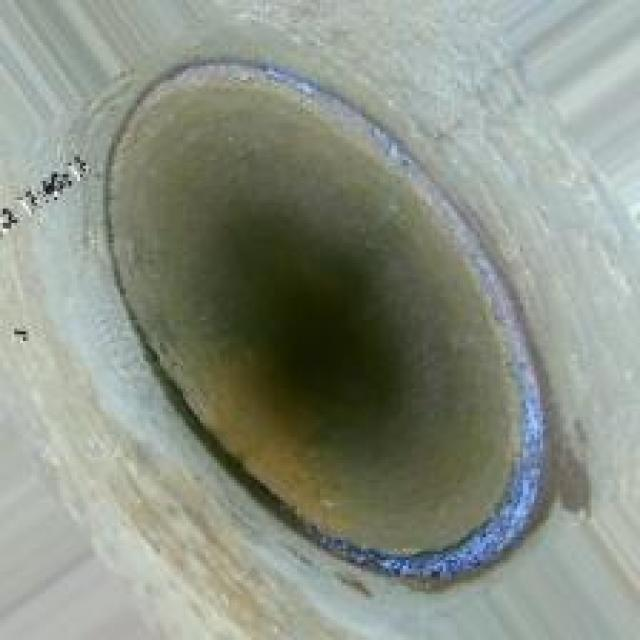joint: (88, 48, 563, 586)
